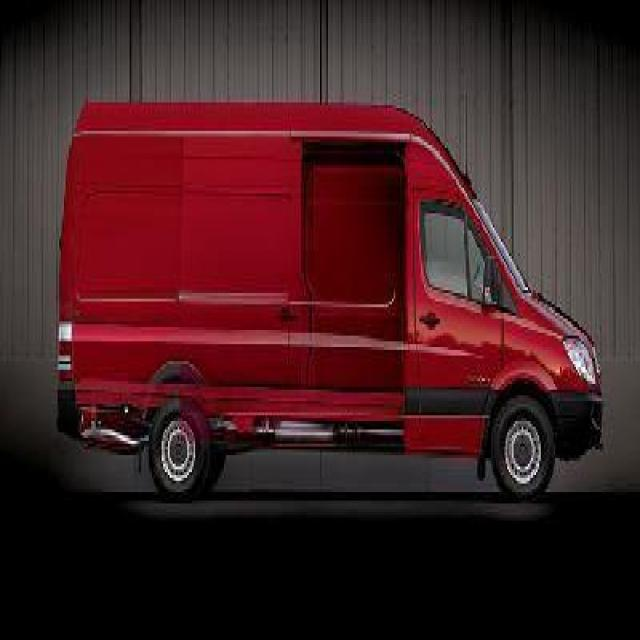Truck: (49, 73, 640, 543)
